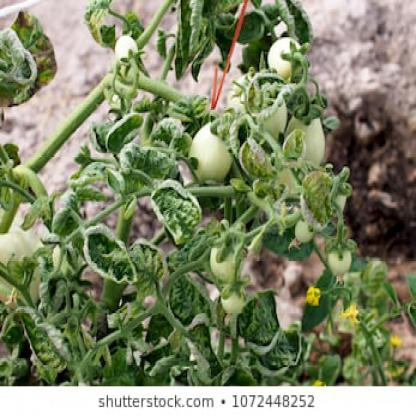tomato leaf yellow virus: (146, 180, 206, 244), (83, 223, 139, 285), (151, 111, 210, 165), (301, 168, 334, 244), (122, 140, 182, 175), (123, 239, 167, 285)
